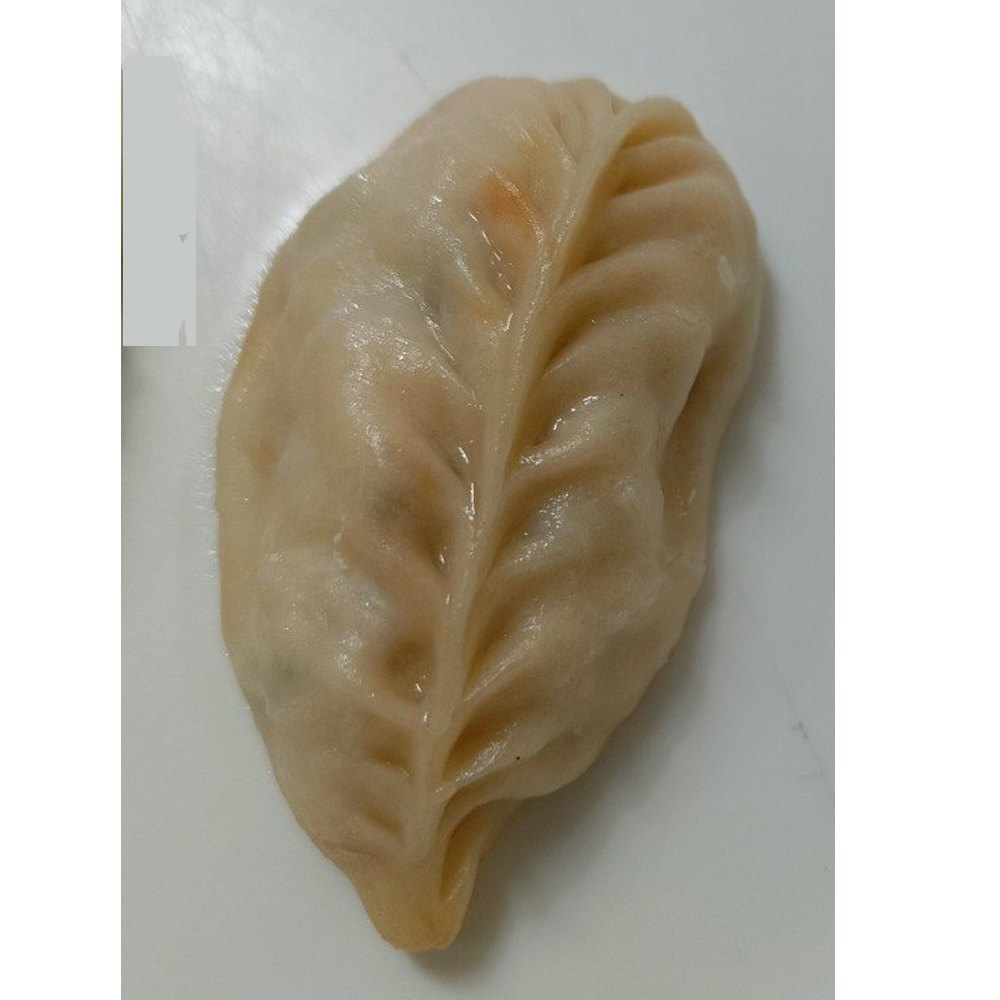momo: (215, 60, 788, 982)
